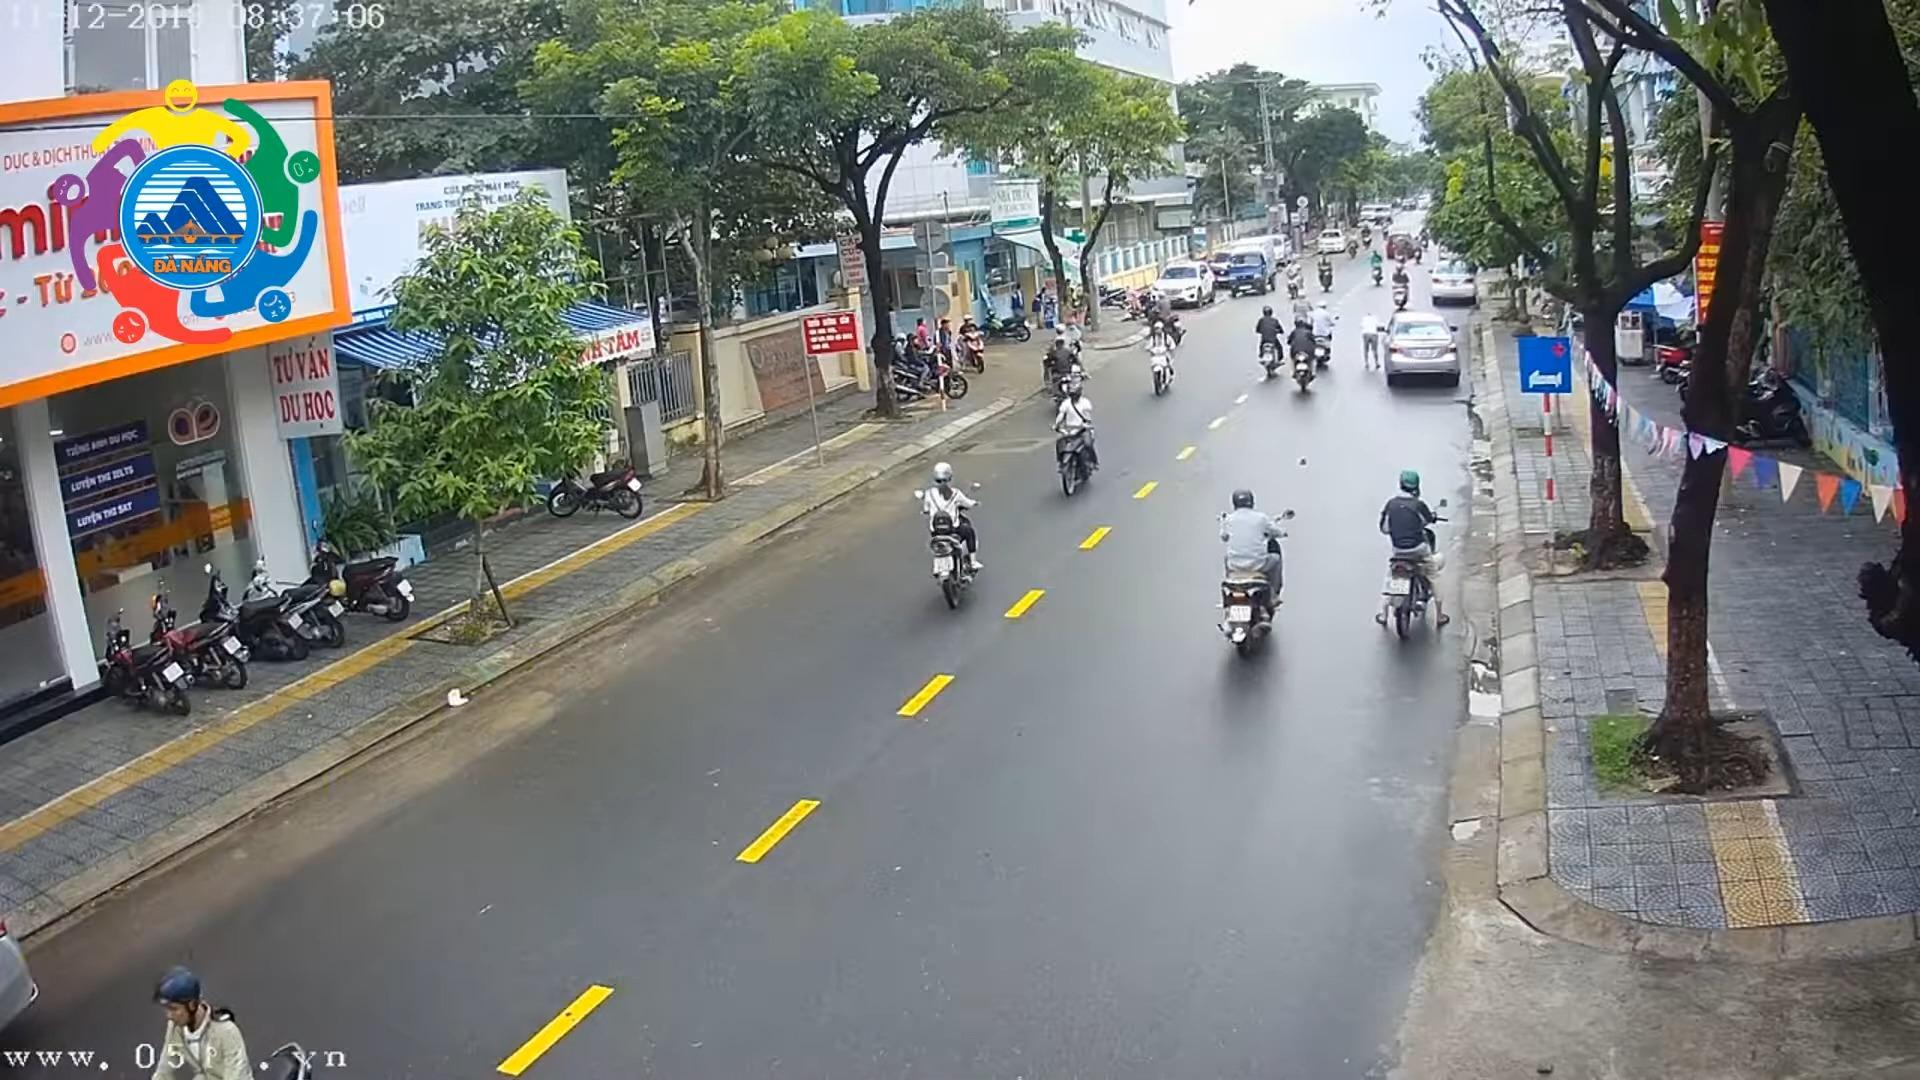car: (1382, 306, 1465, 384), (1151, 249, 1215, 316), (1428, 247, 1485, 307), (1317, 223, 1346, 258)
motorcycle: (1360, 454, 1464, 654), (1209, 484, 1304, 661), (902, 450, 998, 617), (142, 575, 255, 698), (95, 597, 202, 724), (298, 522, 419, 628), (191, 556, 311, 659), (241, 550, 351, 657), (547, 438, 647, 527), (1047, 381, 1109, 506), (876, 331, 971, 413), (1141, 320, 1188, 398), (1039, 340, 1091, 409), (1249, 299, 1288, 381), (1287, 314, 1321, 397), (1308, 297, 1344, 371), (977, 305, 1030, 345), (1279, 257, 1313, 303), (1391, 260, 1419, 311), (1315, 249, 1344, 297), (1365, 248, 1389, 295)
truck: (1226, 229, 1282, 302)
